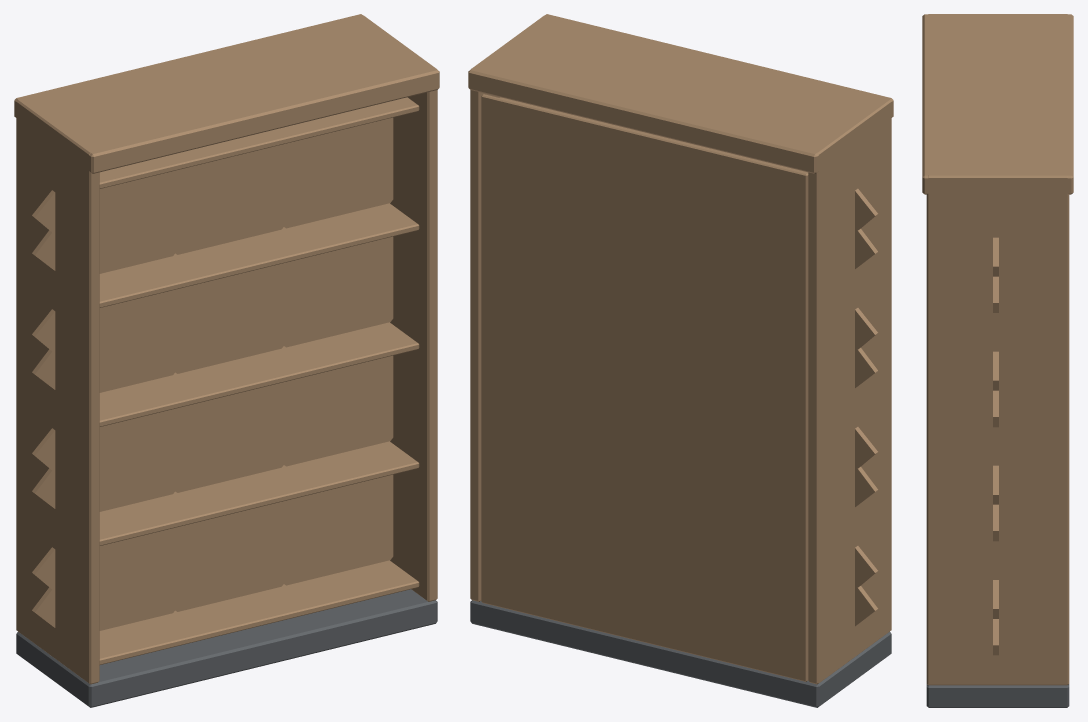
Rendered from bar-pub-and-brewery-taproom-wine-display-rack-a0b85a44__18370.glb.
3 views of the same model, side by side, from view 1: azimuth 30°, elevation 25°; view 2: azimuth 150°, elevation 25°; view 3: azimuth 270°, elevation 25° (orthographic). The views are drawn at different scales.
Parts seen in each view (by area): view 1: wine-display-rack; view 2: wine-display-rack; view 3: wine-display-rack.
Part boxes in pixels (left/top/right/bottom): wine-display-rack: left=14, top=14, right=439, bottom=707; wine-display-rack: left=468, top=14, right=893, bottom=707; wine-display-rack: left=922, top=14, right=1073, bottom=707.
Size of the model in its own units: 1.03 by 1.4 by 0.36.
